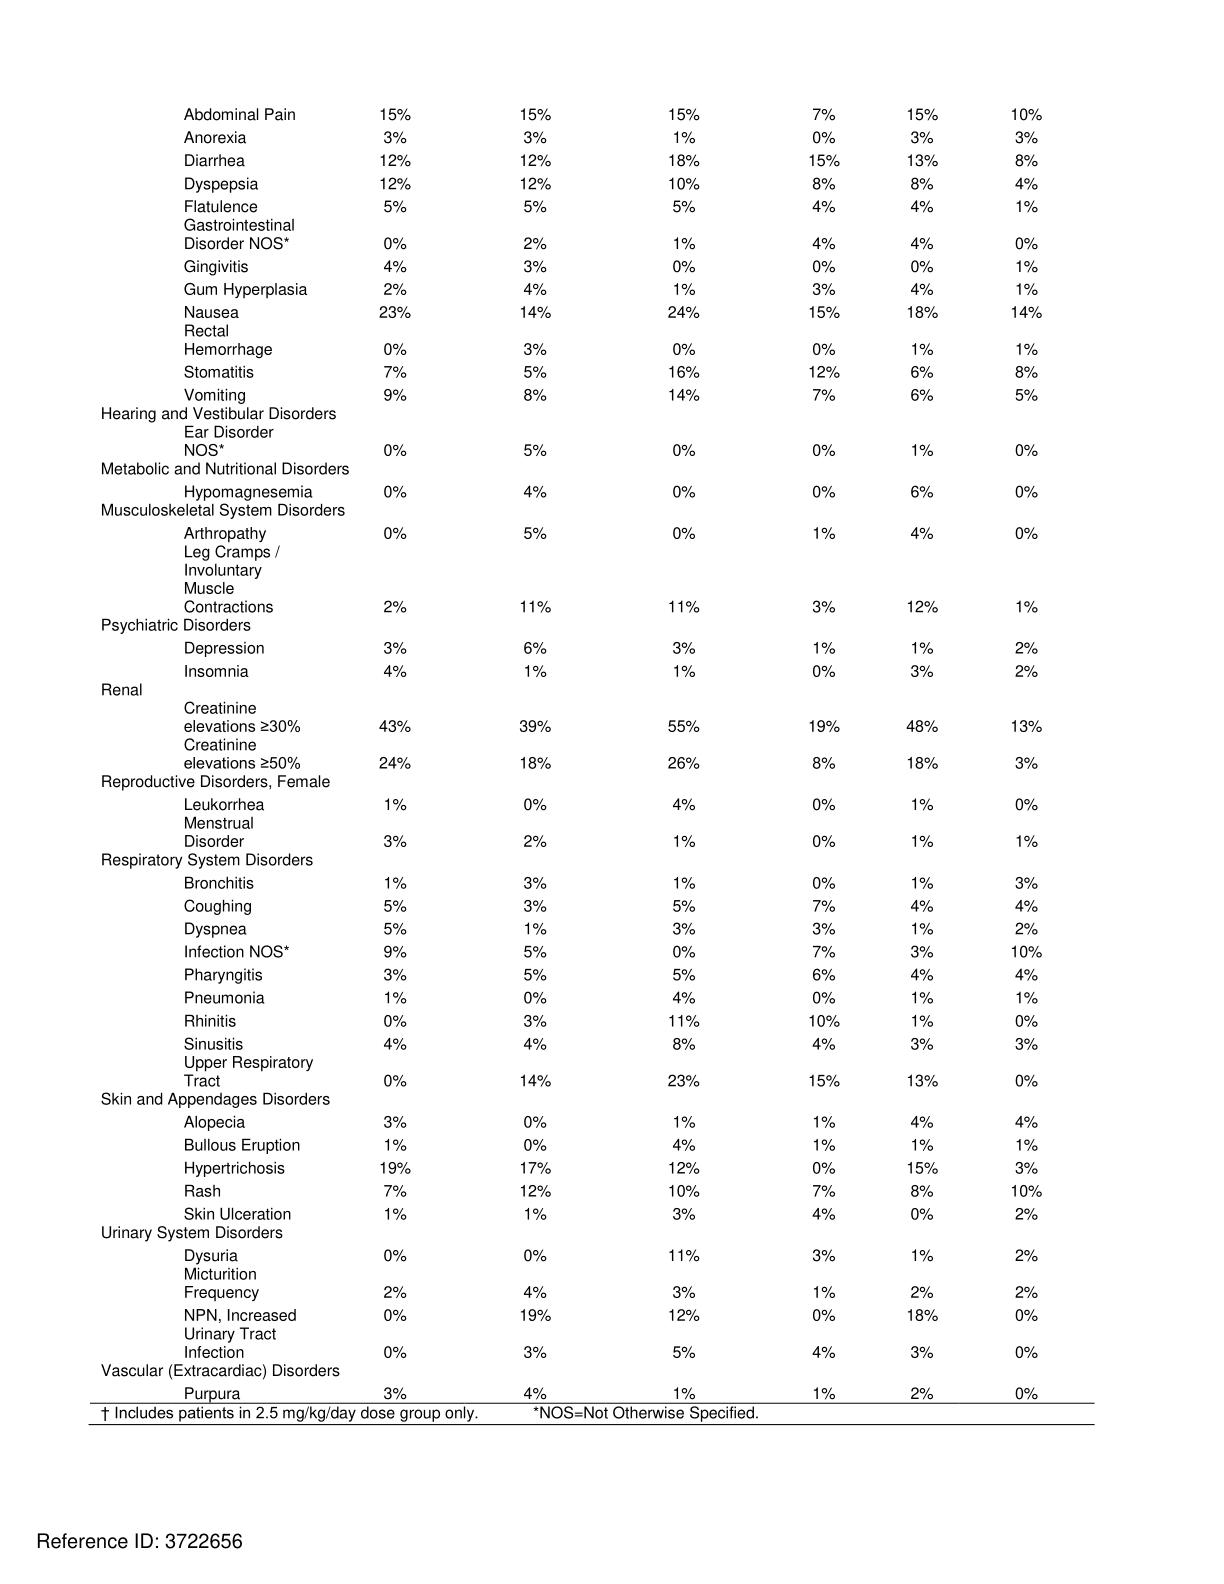nolines: (98, 103, 1043, 1401)
